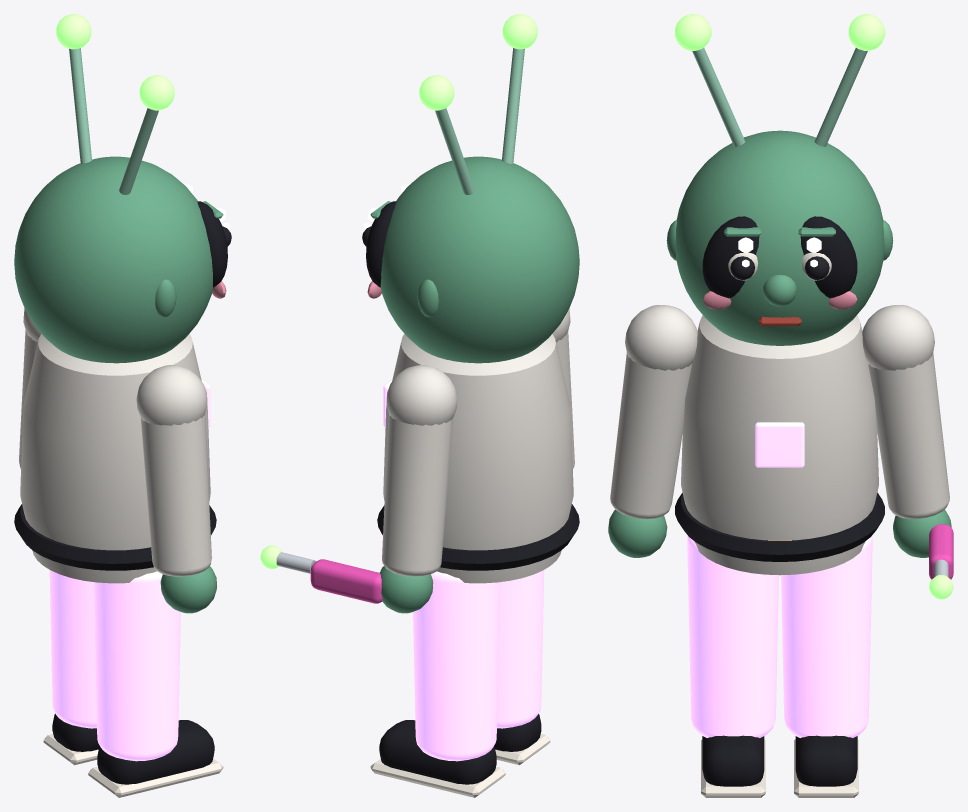
File: alien.glb
The picture shows the model from 3 angles, left to right: view 1: azimuth 30°, elevation 25°; view 2: azimuth 150°, elevation 25°; view 3: azimuth 270°, elevation 25°; orthographic projection. The views are drawn at different scales.
Parts seen in each view (by area): view 1: alien; view 2: alien; view 3: alien.
Part boxes in pixels (box(x1,y1,x2,y2)): alien: box(14, 14, 231, 797); alien: box(260, 14, 579, 797); alien: box(608, 14, 953, 797).
Bounding box in the file's own units: 0.4399 × 1.33 × 0.5568.
Materials: 1 (1 with a texture image).
